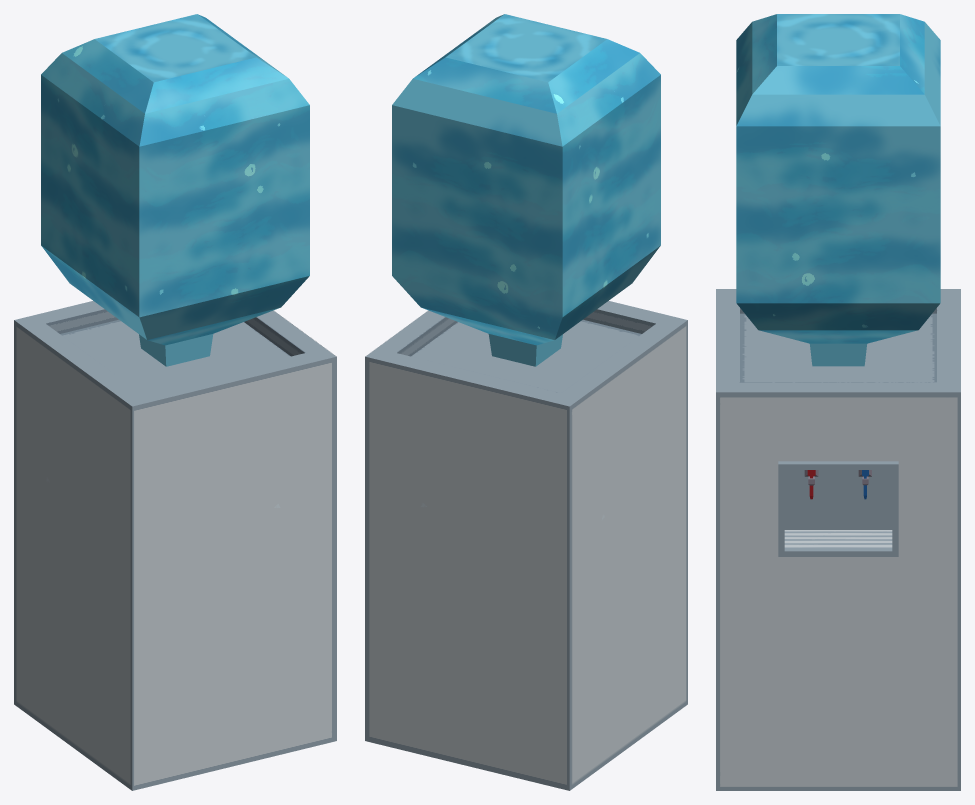
The model's file is WaterCooler.fbx.
3 views of the same model, side by side, from view 1: azimuth 30°, elevation 25°; view 2: azimuth 150°, elevation 25°; view 3: azimuth 270°, elevation 25° (orthographic). The views are drawn at different scales.
Visible parts, largest first — view 1: WaterCooler; view 2: WaterCooler; view 3: WaterCooler.
Boxes of the visible parts, x1,y1,x2,y2 form: WaterCooler: (14,14,336,790); WaterCooler: (365,14,687,790); WaterCooler: (716,14,960,790).
Bounding box in the file's own units: 274 × 838 × 266.
